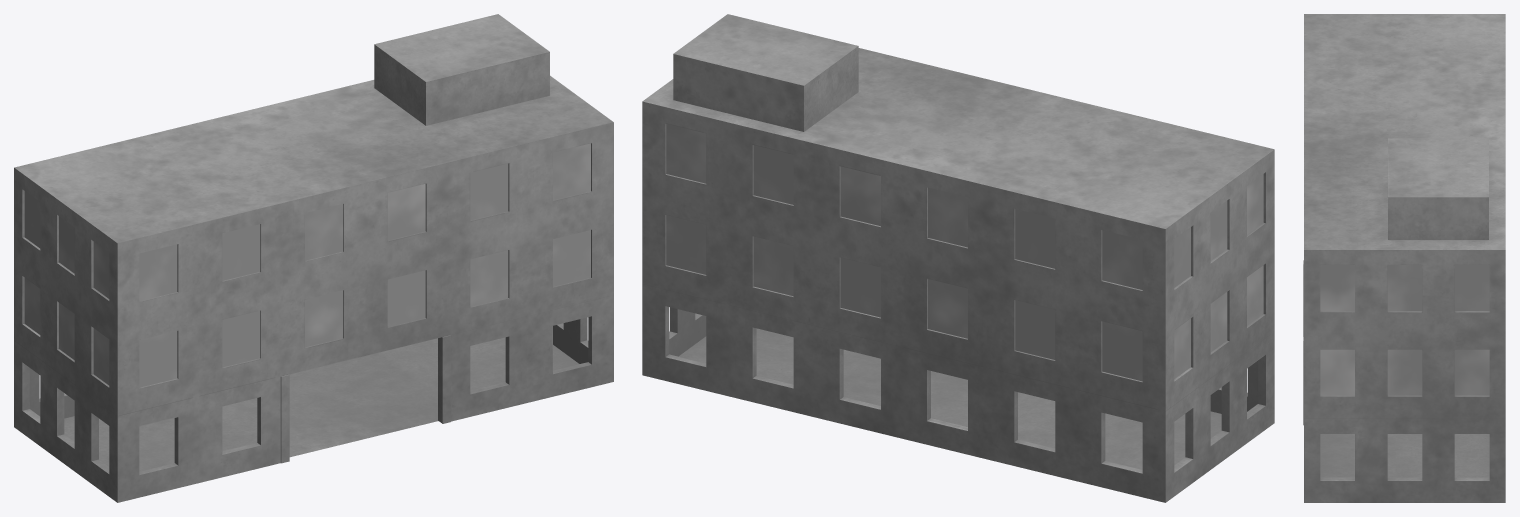
Rendered from building_2_2.fbx.
3 views of the same model, side by side, from view 1: azimuth 30°, elevation 25°; view 2: azimuth 150°, elevation 25°; view 3: azimuth 270°, elevation 25° (orthographic). The views are drawn at different scales.
Visible parts, largest first — view 1: building2; view 2: building2; view 3: building2.
Part boxes in pixels (x1,y1,x2,y2): building2: [14, 14, 613, 502]; building2: [642, 14, 1274, 502]; building2: [1303, 14, 1505, 502].
Size of the model in its own units: 18 by 10.52 by 6.53.
Materials: 1 (1 with a texture image).
